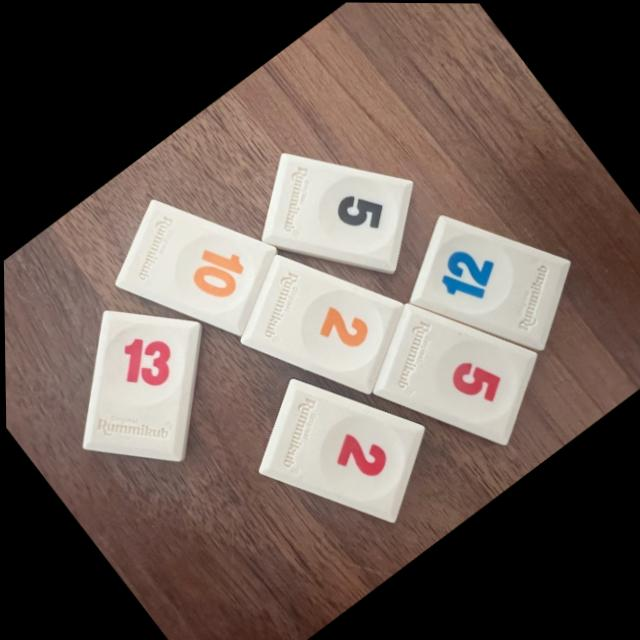black_5: (262, 153, 412, 272)
blue_12: (410, 215, 569, 349)
orange_10: (116, 199, 276, 335)
orange_2: (240, 255, 403, 393)
red_13: (82, 311, 201, 461)
red_2: (258, 378, 423, 521)
red_5: (373, 303, 536, 444)
